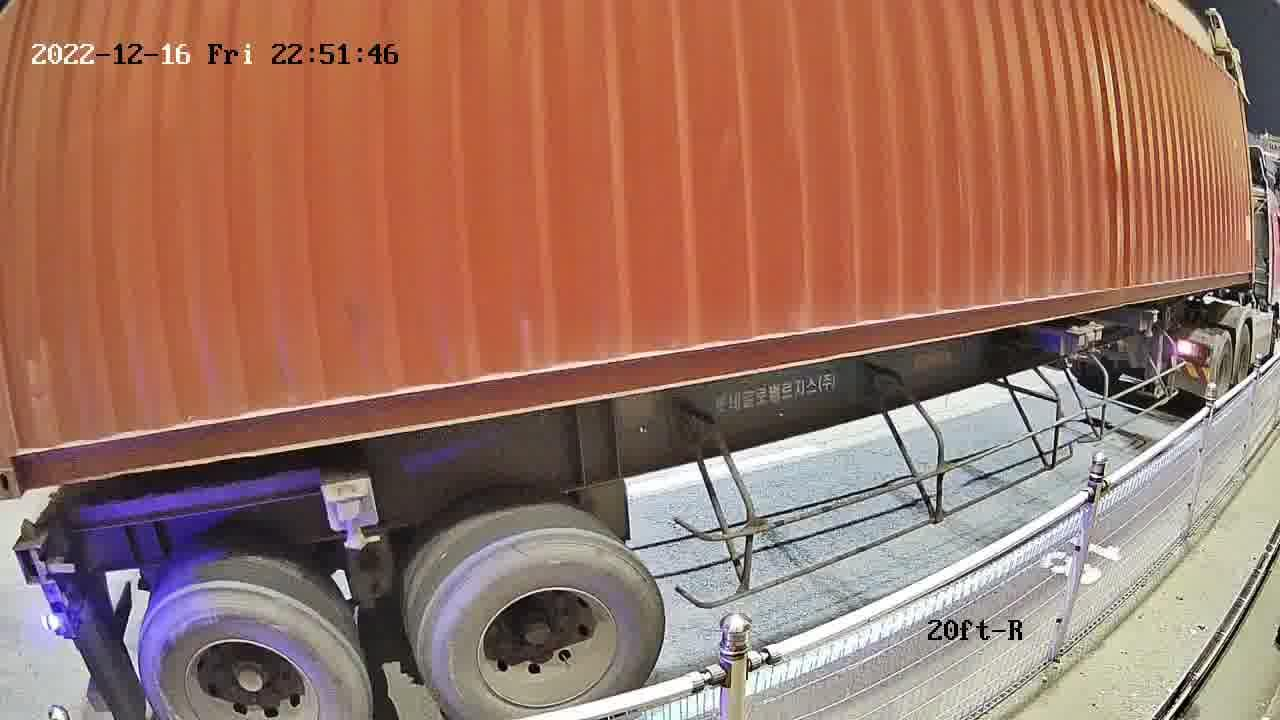Cone: (11, 515, 60, 589)
Hole_L: (2, 416, 66, 499)
Tire: (424, 538, 665, 717), (136, 581, 374, 719)
